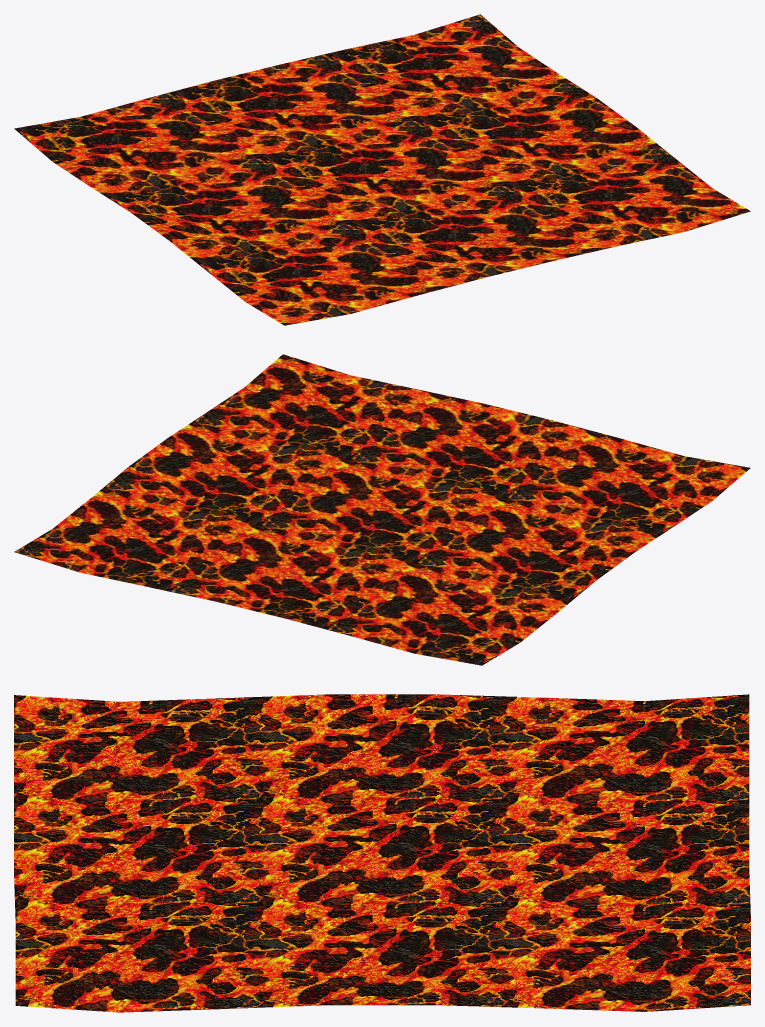
File: lava_sheet_base.glb
3 views of the same model, one above another, from view 1: azimuth 30°, elevation 25°; view 2: azimuth 150°, elevation 25°; view 3: azimuth 270°, elevation 25° (orthographic). The views are drawn at different scales.
Visible parts, largest first — view 1: MeshRoot; view 2: MeshRoot; view 3: MeshRoot.
Part boxes in pixels (x1=…): MeshRoot: x1=14, y1=14, x2=750, y2=325; MeshRoot: x1=14, y1=354, x2=750, y2=665; MeshRoot: x1=14, y1=694, x2=750, y2=1012.
Bounding box in the file's own units: 30 × 0.3516 × 30.
Materials: 1 (1 with a texture image).
